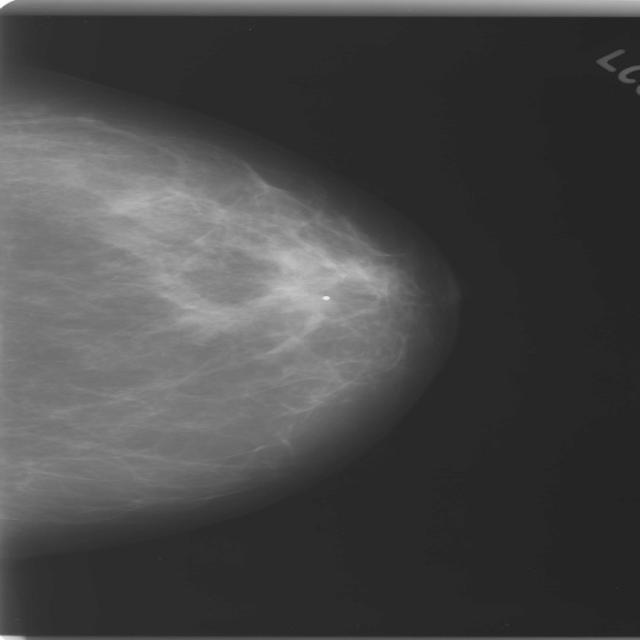tumour: (264, 277, 327, 309)
